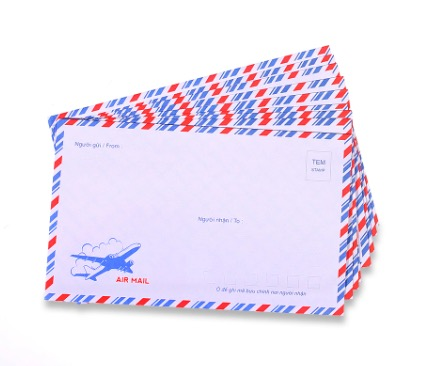paper: (43, 46, 381, 321)
